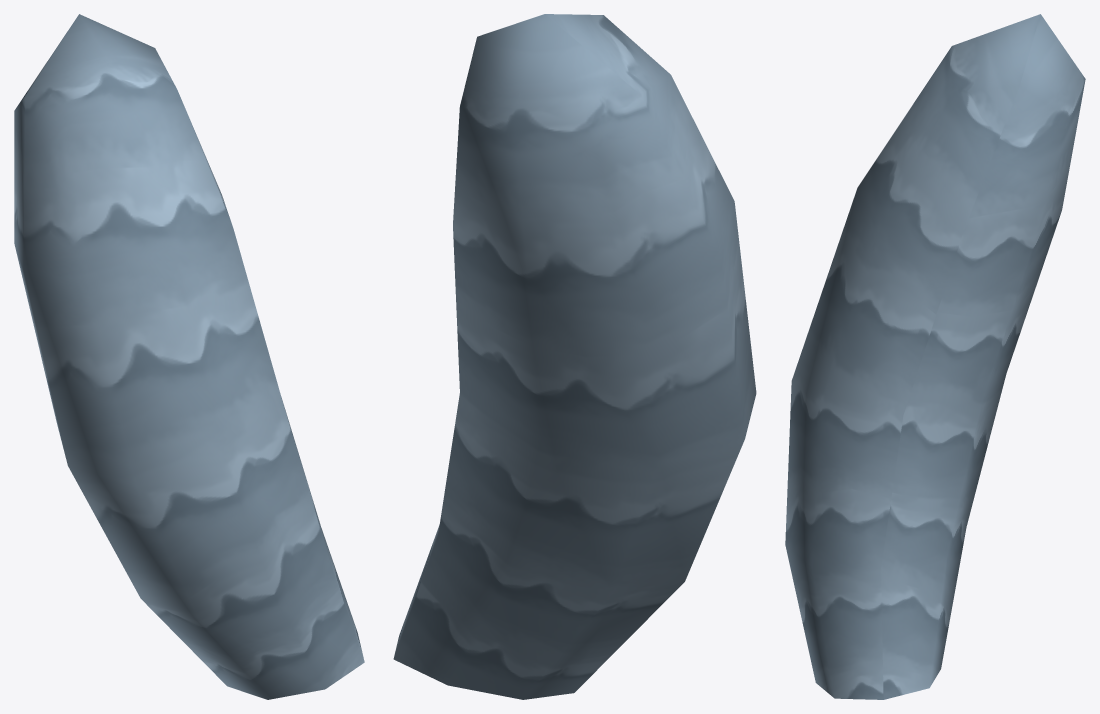
Rendered from EarsBunR.fbx.
The picture shows the model from 3 angles, left to right: view 1: azimuth 30°, elevation 25°; view 2: azimuth 150°, elevation 25°; view 3: azimuth 270°, elevation 25°; orthographic projection. The views are drawn at different scales.
Visible parts, largest first — view 1: EarsBunR; view 2: EarsBunR; view 3: EarsBunR.
Part boxes in pixels (<box>): EarsBunR: <box>14,14,364,699</box>; EarsBunR: <box>393,14,756,699</box>; EarsBunR: <box>785,14,1085,699</box>.
Bounding box in the file's own units: 89.79 × 182 × 80.89.
